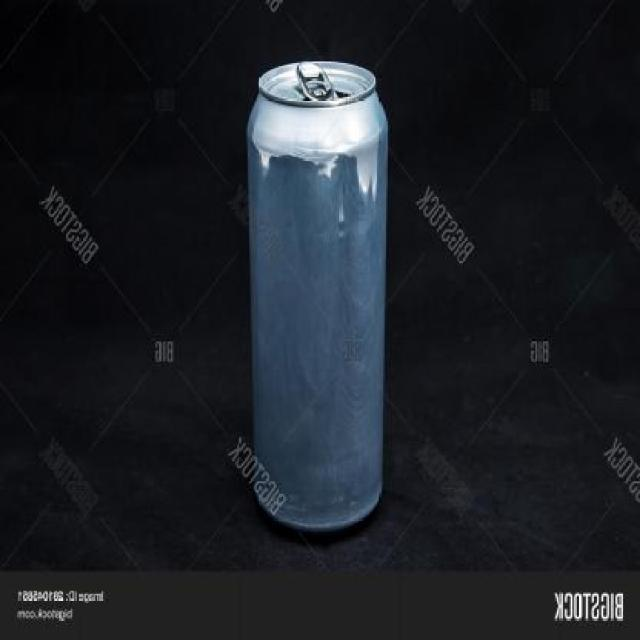can: (241, 45, 397, 532)
